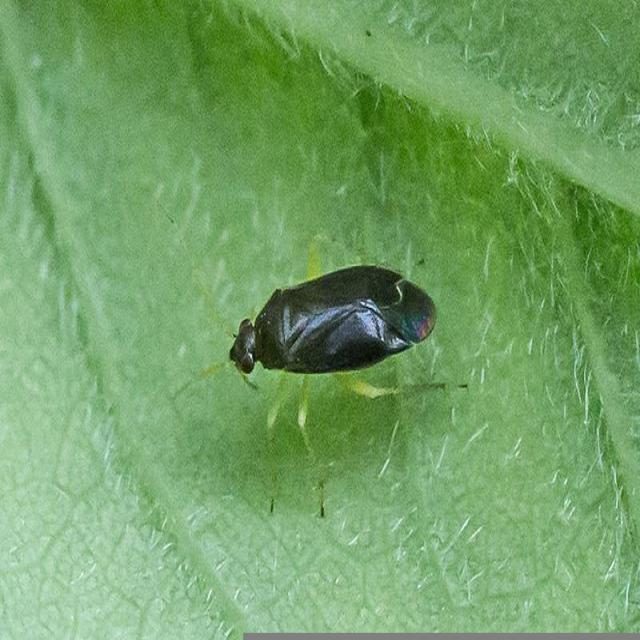Miridae-Adult-: (170, 225, 483, 496)
